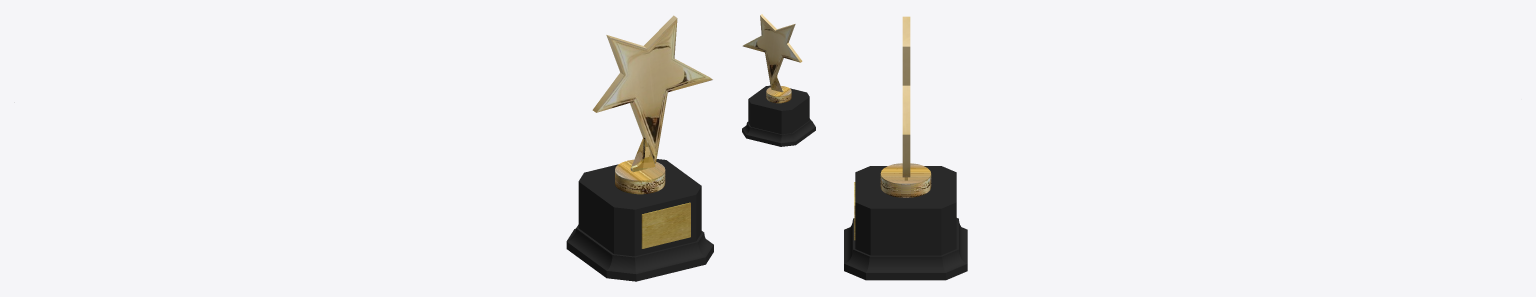
The model's file is AWARD-T10.fbx.
The picture shows the model from 3 angles, left to right: view 1: azimuth 30°, elevation 25°; view 2: azimuth 150°, elevation 25°; view 3: azimuth 270°, elevation 25°; orthographic projection. The views are drawn at different scales.
Parts seen in each view (by area): view 1: Group5, Group8, Group2, Group4, Group7; view 2: Group5, Group8, Group4, Group7; view 3: Group5, Group4, Group8.
Part boxes in pixels (x1,y1,x2,y2): Group5: (566, 159, 713, 281); Group8: (592, 15, 712, 164); Group2: (641, 202, 690, 248); Group4: (615, 159, 665, 194); Group7: (630, 137, 655, 172); Group5: (742, 85, 815, 146); Group8: (742, 14, 802, 88); Group4: (766, 86, 791, 103); Group7: (771, 75, 783, 92); Group5: (844, 166, 967, 280); Group4: (880, 163, 931, 197); Group8: (902, 16, 910, 177).
Bounding box in the file's own units: 0.4446 × 0.2454 × 0.6699.
